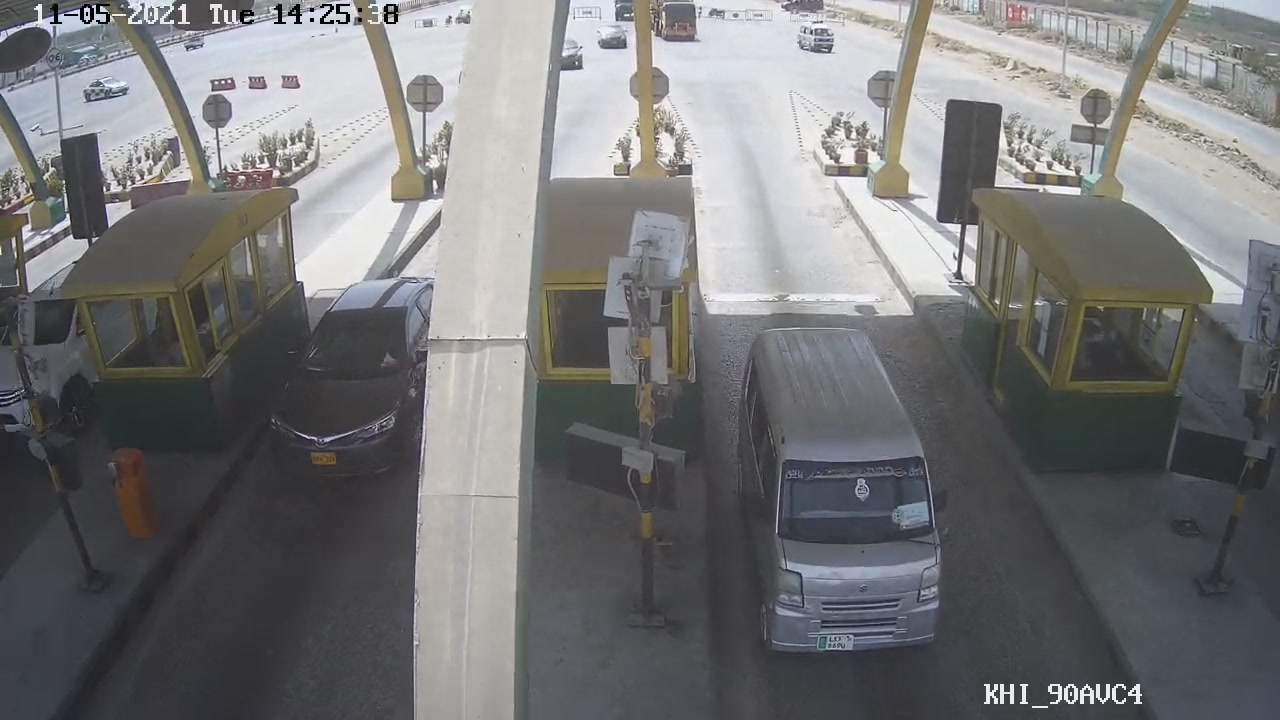F1: (733, 321, 956, 663)
